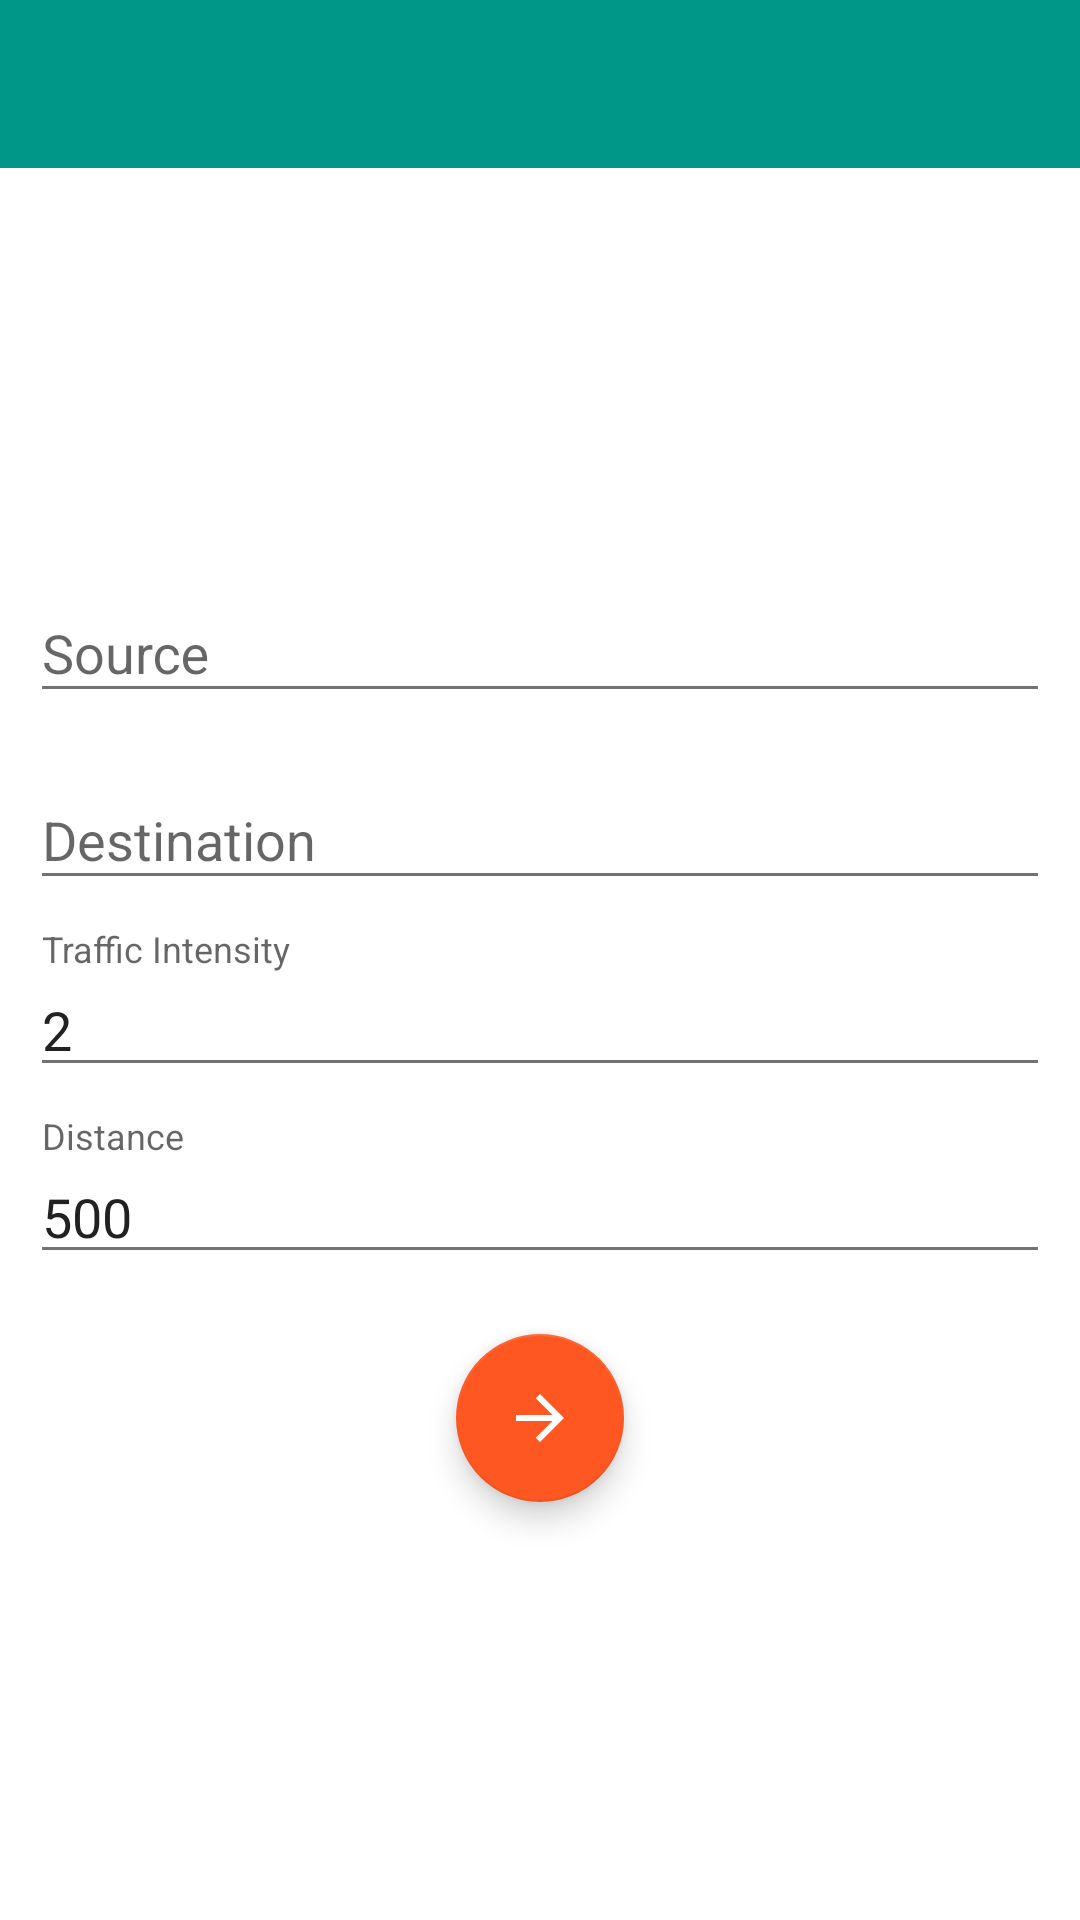

Icons on this 1080px x 1920px Android screen, each with the point to tap as (x=x, y=y):
arrow forward: (x=540, y=1418)
